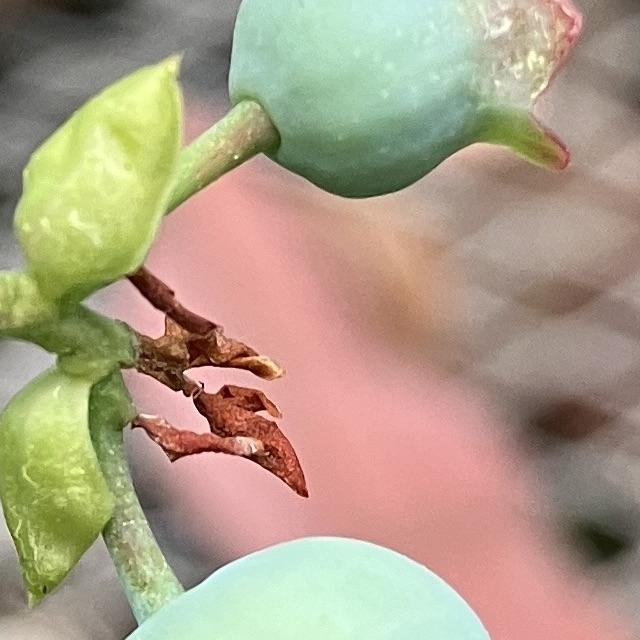Blueberries: (79, 528, 575, 640)
